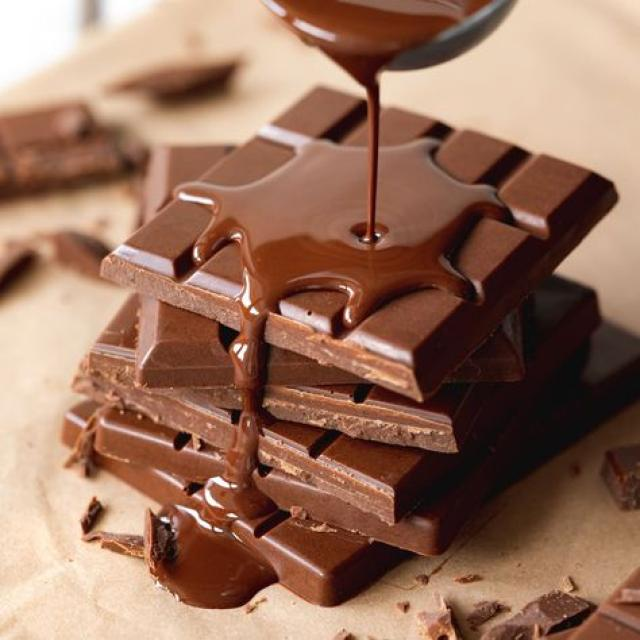Chocolate: (61, 81, 640, 608)
